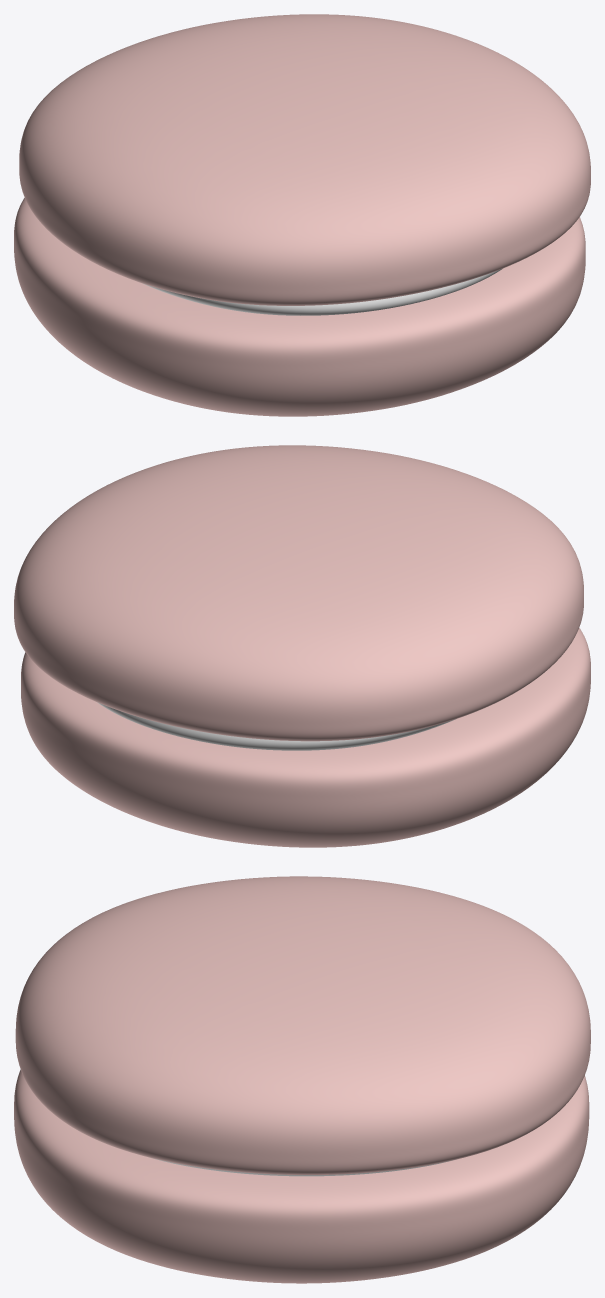
The model's file is burger.glb.
3 renders of one model, top to bottom at view 1: azimuth 30°, elevation 25°; view 2: azimuth 150°, elevation 25°; view 3: azimuth 270°, elevation 25°, orthographic. The views are drawn at different scales.
Parts seen in each view (by area): view 1: Cube.002, Cube, Cube.001; view 2: Cube.002, Cube, Cube.001; view 3: Cube.002, Cube.
Part boxes in pixels (x1,y1,x2,y2): Cube.002: [19, 14, 590, 305]; Cube: [14, 198, 585, 416]; Cube.001: [143, 268, 502, 315]; Cube.002: [14, 445, 583, 741]; Cube: [21, 628, 590, 847]; Cube.001: [97, 702, 455, 750]; Cube.002: [15, 876, 590, 1174]; Cube: [14, 1069, 589, 1283].
Size of the model in its own units: 9.65 by 4.78 by 9.56.
